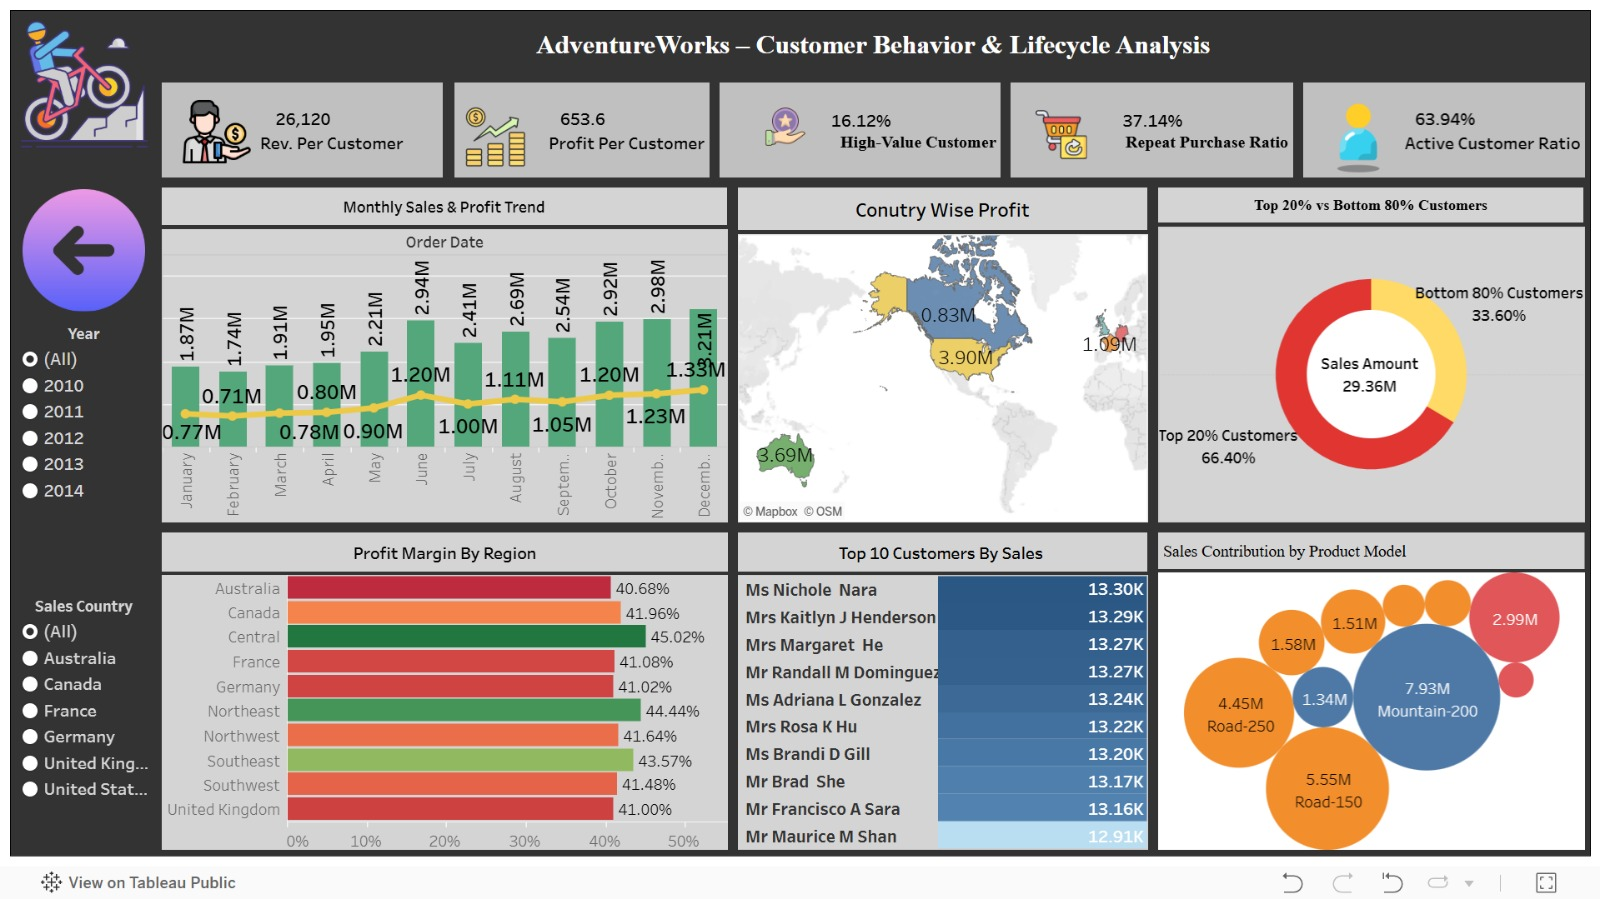

Layout of this report page (visuals, bound fields, positions):
{"tool":"tableau","page":{"name":"Dashboard 2 ","canvas":[1000,1000],"units":"permille","ordinal":1},"visuals":[{"type":"image","param":"Image/cycling.png","box":[7.8,16.3,90.8,197.4]},{"type":"text","box":[98.6,16.3,893.6,75.7]},{"type":"worksheet","title":"KPI2","mark":"Automatic","box":[98.6,92,177.5,121]},{"type":"worksheet","title":"KPI","mark":"Automatic","box":[276.1,92,183.6,121]},{"type":"worksheet","title":"8th kpi","mark":"Automatic","box":[459.6,92,177.5,121]},{"type":"worksheet","title":"7Kpi","mark":"Automatic","box":[637.1,92,177.5,121]},{"type":"worksheet","title":"Fifth Kpi","mark":"Automatic","box":[814.7,92,177.5,121]},{"type":"image","param":"Image/icons8-customer-100.png","box":[821.6,108.7,53.7,90.6]},{"type":"image","param":"Image/personal.png","box":[113.4,110.5,48.5,81.5]},{"type":"image","param":"Image/high-value.png","box":[476.2,119.6,28.6,74.3]},{"type":"image","param":"Image/profit.png","box":[289.2,123.2,40.7,70.7]},{"type":"image","param":"Image/repeat-order.png","box":[646.8,125,32,67]},{"type":"worksheet","title":"Sheet 27","mark":"Bar","rows":["Calculation_1302668317487116","Calculation_1302668319137807"],"cols":["OrderDate"],"box":[98.6,213,359.6,394.5]},{"type":"worksheet","title":"Sheet 29","mark":"Automatic","box":[458.2,213,261.8,394.6]},{"type":"worksheet","title":"Sheet 25","mark":"Circle","rows":["Calculation_1302668345667612","Calculation_1302668345667612"],"box":[720,213,272.2,394.6]},{"type":"dashboard-object","box":[7.8,213.7,90.8,152.1]},{"type":"filter","title":"7Kpi","param":"[federated.0juong31d2545d12oi5dv0tnss1m].[none:Calculation_1302668280004608:ok]","box":[7.8,365.8,90.8,291.7]},{"type":"worksheet","title":"Sheet 24","mark":"Automatic","rows":["SalesTerritoryRegion"],"cols":["Calculation_1302668319391760"],"box":[98.6,607.6,359.6,376.2]},{"type":"worksheet","title":"Sheet 23","mark":"Square","rows":["Customer_Fullname"],"box":[458.2,607.6,262.2,376.1]},{"type":"worksheet","title":"Sheet 30","mark":"Circle","box":[720.4,607.6,271.9,376.1]},{"type":"filter","title":"7Kpi","param":"[federated.0juong31d2545d12oi5dv0tnss1m].[none:SalesTerritoryCountry:nk]","box":[7.8,678.9,90.8,304.8]}]}

Visuals, with their boxes on the dashboard's canvas, which has no fixed pixel size, in thousandths of its width and height (x1, y1, x2, y2). These are canvas units, not pixel positions in the 1600x899 screenshot, which may show the page scaled, cropped or inside an application window:
image: bbox(8, 16, 99, 214)
text: bbox(99, 16, 992, 92)
"KPI2" worksheet: bbox(99, 92, 276, 213)
"KPI" worksheet: bbox(276, 92, 460, 213)
"8th kpi" worksheet: bbox(460, 92, 637, 213)
"7Kpi" worksheet: bbox(637, 92, 815, 213)
"Fifth Kpi" worksheet: bbox(815, 92, 992, 213)
image: bbox(822, 109, 875, 199)
image: bbox(113, 110, 162, 192)
image: bbox(476, 120, 505, 194)
image: bbox(289, 123, 330, 194)
image: bbox(647, 125, 679, 192)
"Sheet 27" worksheet (Bar marks): bbox(99, 213, 458, 608)
"Sheet 29" worksheet: bbox(458, 213, 720, 608)
"Sheet 25" worksheet (Circle marks): bbox(720, 213, 992, 608)
dashboard-object: bbox(8, 214, 99, 366)
"7Kpi" filter: bbox(8, 366, 99, 658)
"Sheet 24" worksheet: bbox(99, 608, 458, 984)
"Sheet 23" worksheet (Square marks): bbox(458, 608, 720, 984)
"Sheet 30" worksheet (Circle marks): bbox(720, 608, 992, 984)
"7Kpi" filter: bbox(8, 679, 99, 984)
